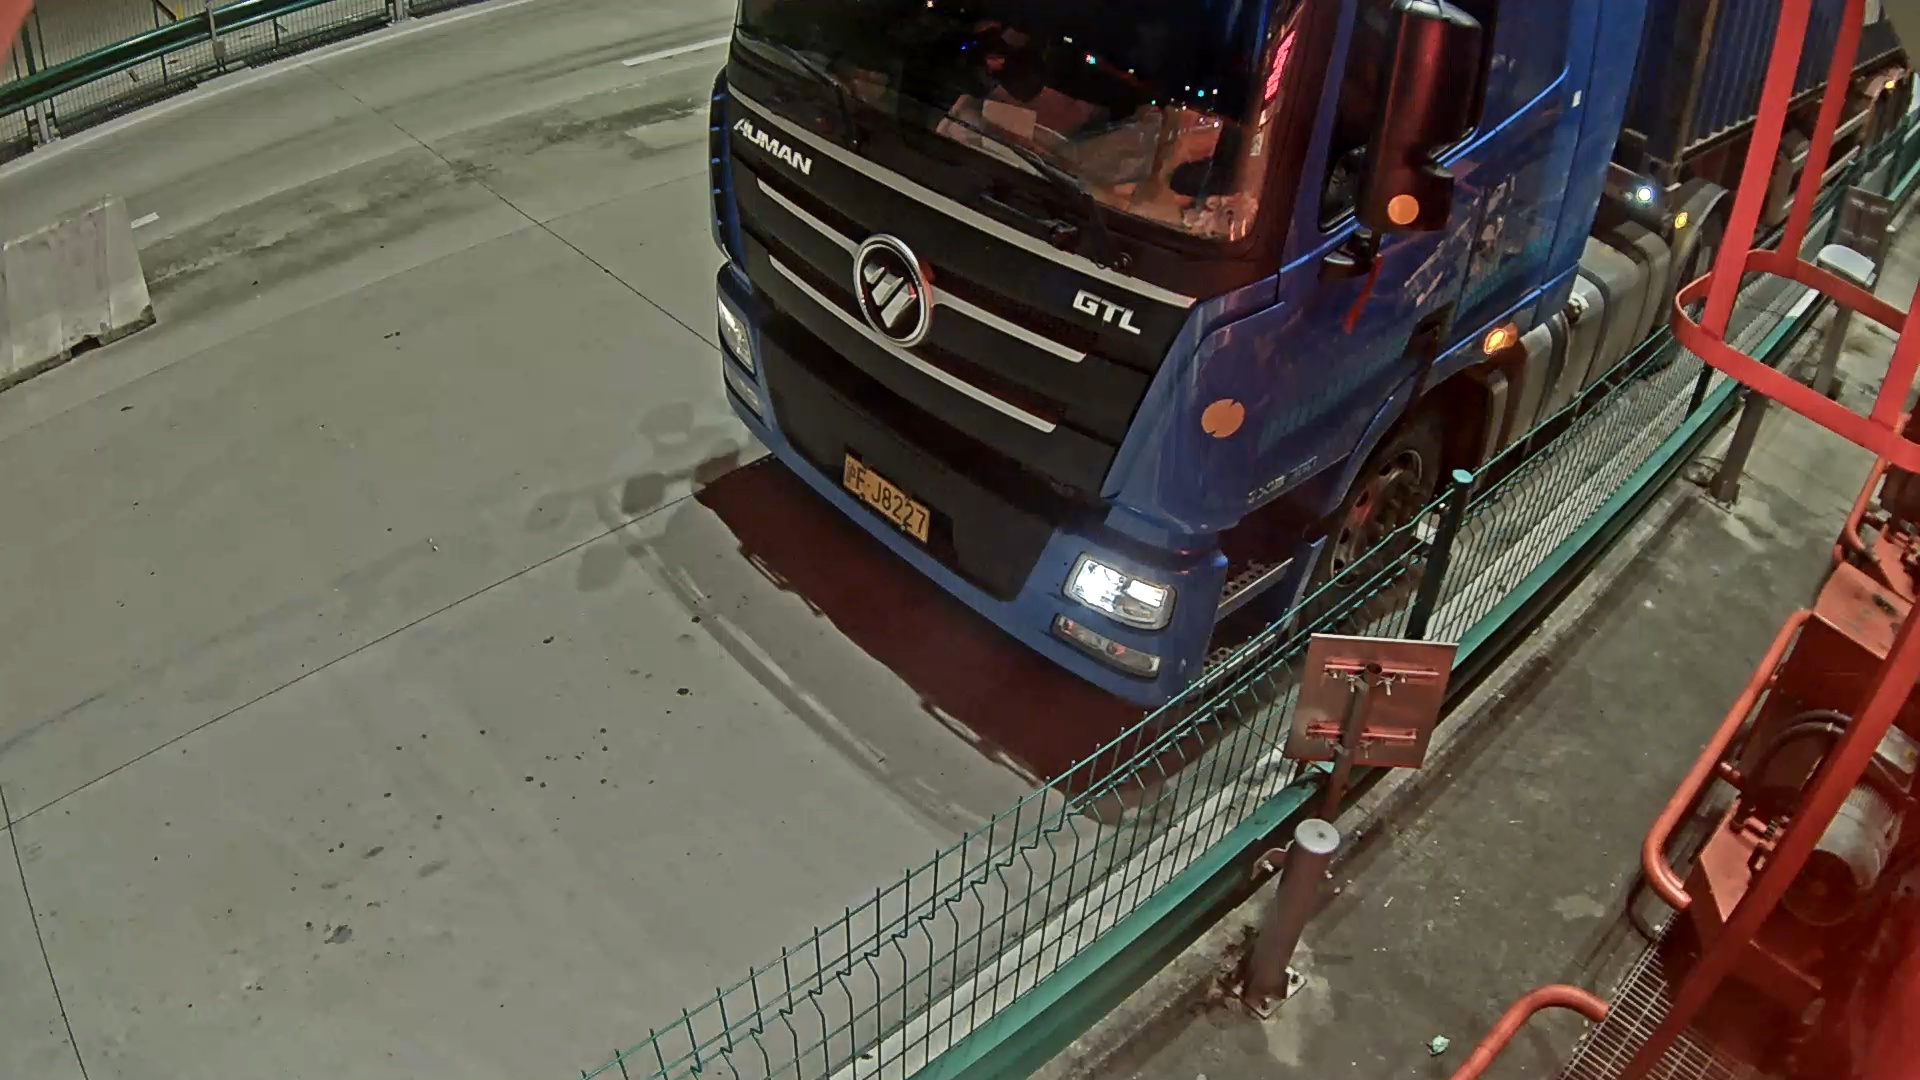head: (688, 15, 1334, 679)
plate: (827, 443, 941, 543)
